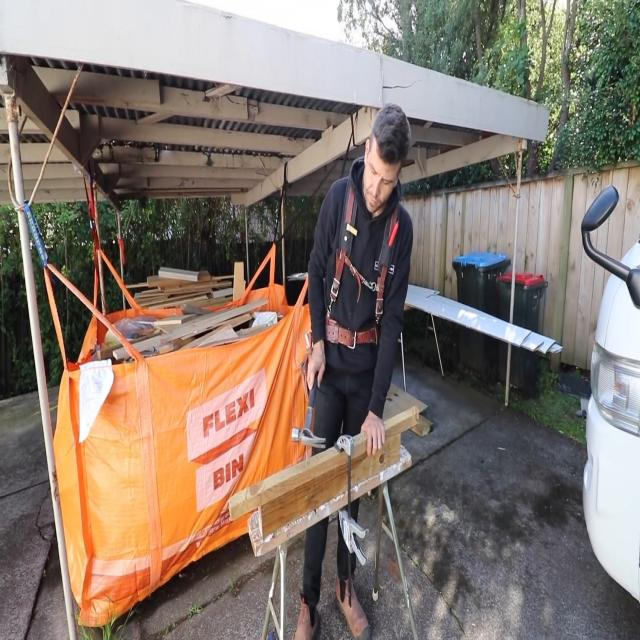hammer: (290, 370, 325, 447)
